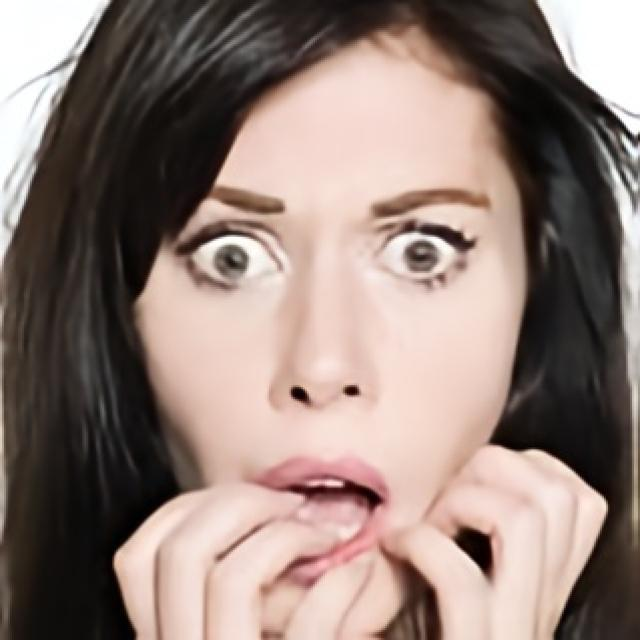fear: (130, 0, 536, 637)
